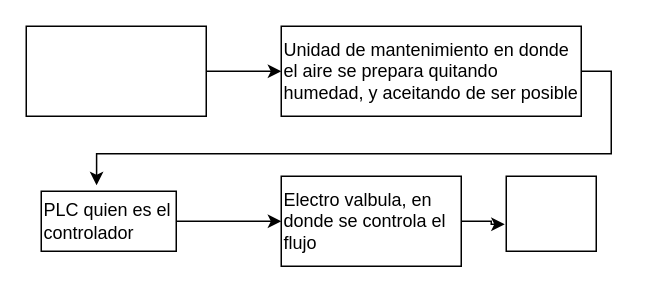
Some shapes in this 650 by 293 pixel diagram are drawn without their labels. Each missing label, with the box of its shape:
Actuador: (505, 175, 596, 251)
Compresor: (25, 25, 206, 116)
